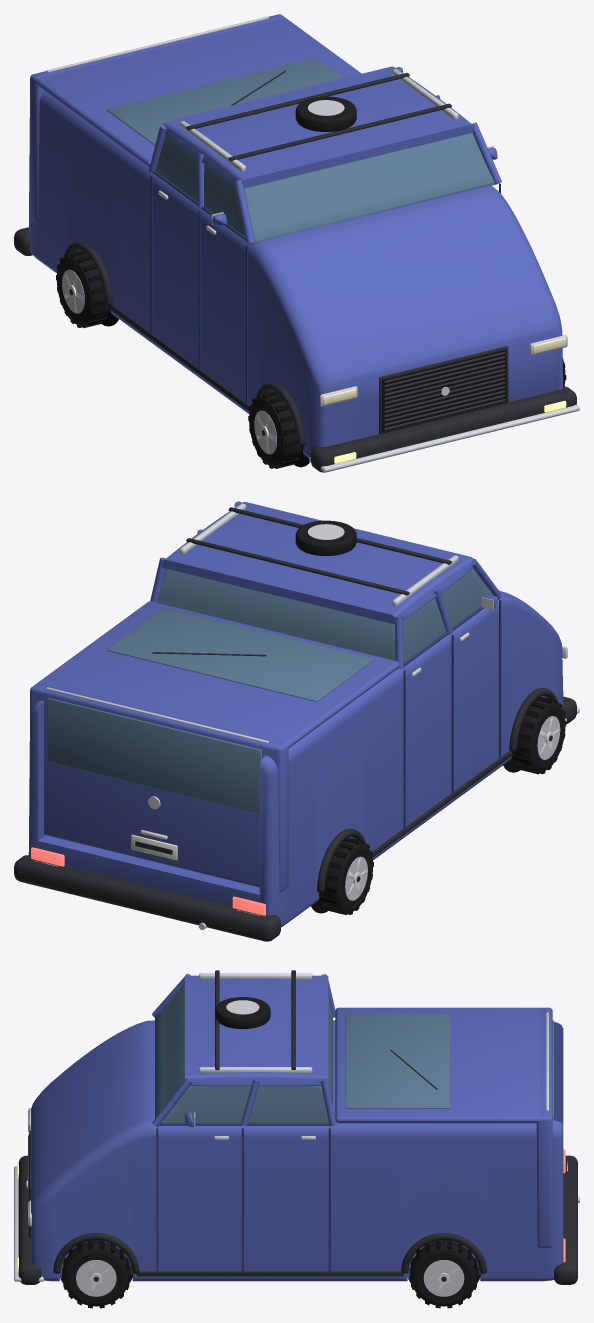
Rendered from snow.fbx.
3 views of the same model, one above another, from view 1: azimuth 30°, elevation 25°; view 2: azimuth 150°, elevation 25°; view 3: azimuth 270°, elevation 25° (orthographic). The views are drawn at different scales.
Visible parts, largest first — view 1: Body, Lid, Wheel_3, Wheel_1, LidFlap; view 2: Body, LidFlap, Lid, Wheel_3, Wheel_1; view 3: Body, Lid, Wheel_0, Wheel_2, LidFlap.
Part boxes in pixels (left/top/right/bottom): Body: left=14, top=66, right=579, bottom=472; Lid: left=30, top=14, right=361, bottom=166; Wheel_3: left=248, top=391, right=302, bottom=468; Wheel_1: left=56, top=250, right=109, bottom=328; LidFlap: left=30, top=14, right=283, bottom=223; Body: left=14, top=501, right=579, bottom=941; LidFlap: left=30, top=683, right=288, bottom=891; Lid: left=30, top=601, right=399, bottom=751; Wheel_3: left=512, top=697, right=566, bottom=774; Wheel_1: left=320, top=837, right=373, bottom=915; Body: left=14, top=970, right=579, bottom=1284; Lid: left=335, top=1007, right=552, bottom=1123; Wheel_0: left=409, top=1240, right=478, bottom=1308; Wheel_2: left=62, top=1240, right=130, bottom=1308; LidFlap: left=536, top=1008, right=553, bottom=1247.
Bounding box in the file's own units: 6.5 × 5.81 × 12.24.
